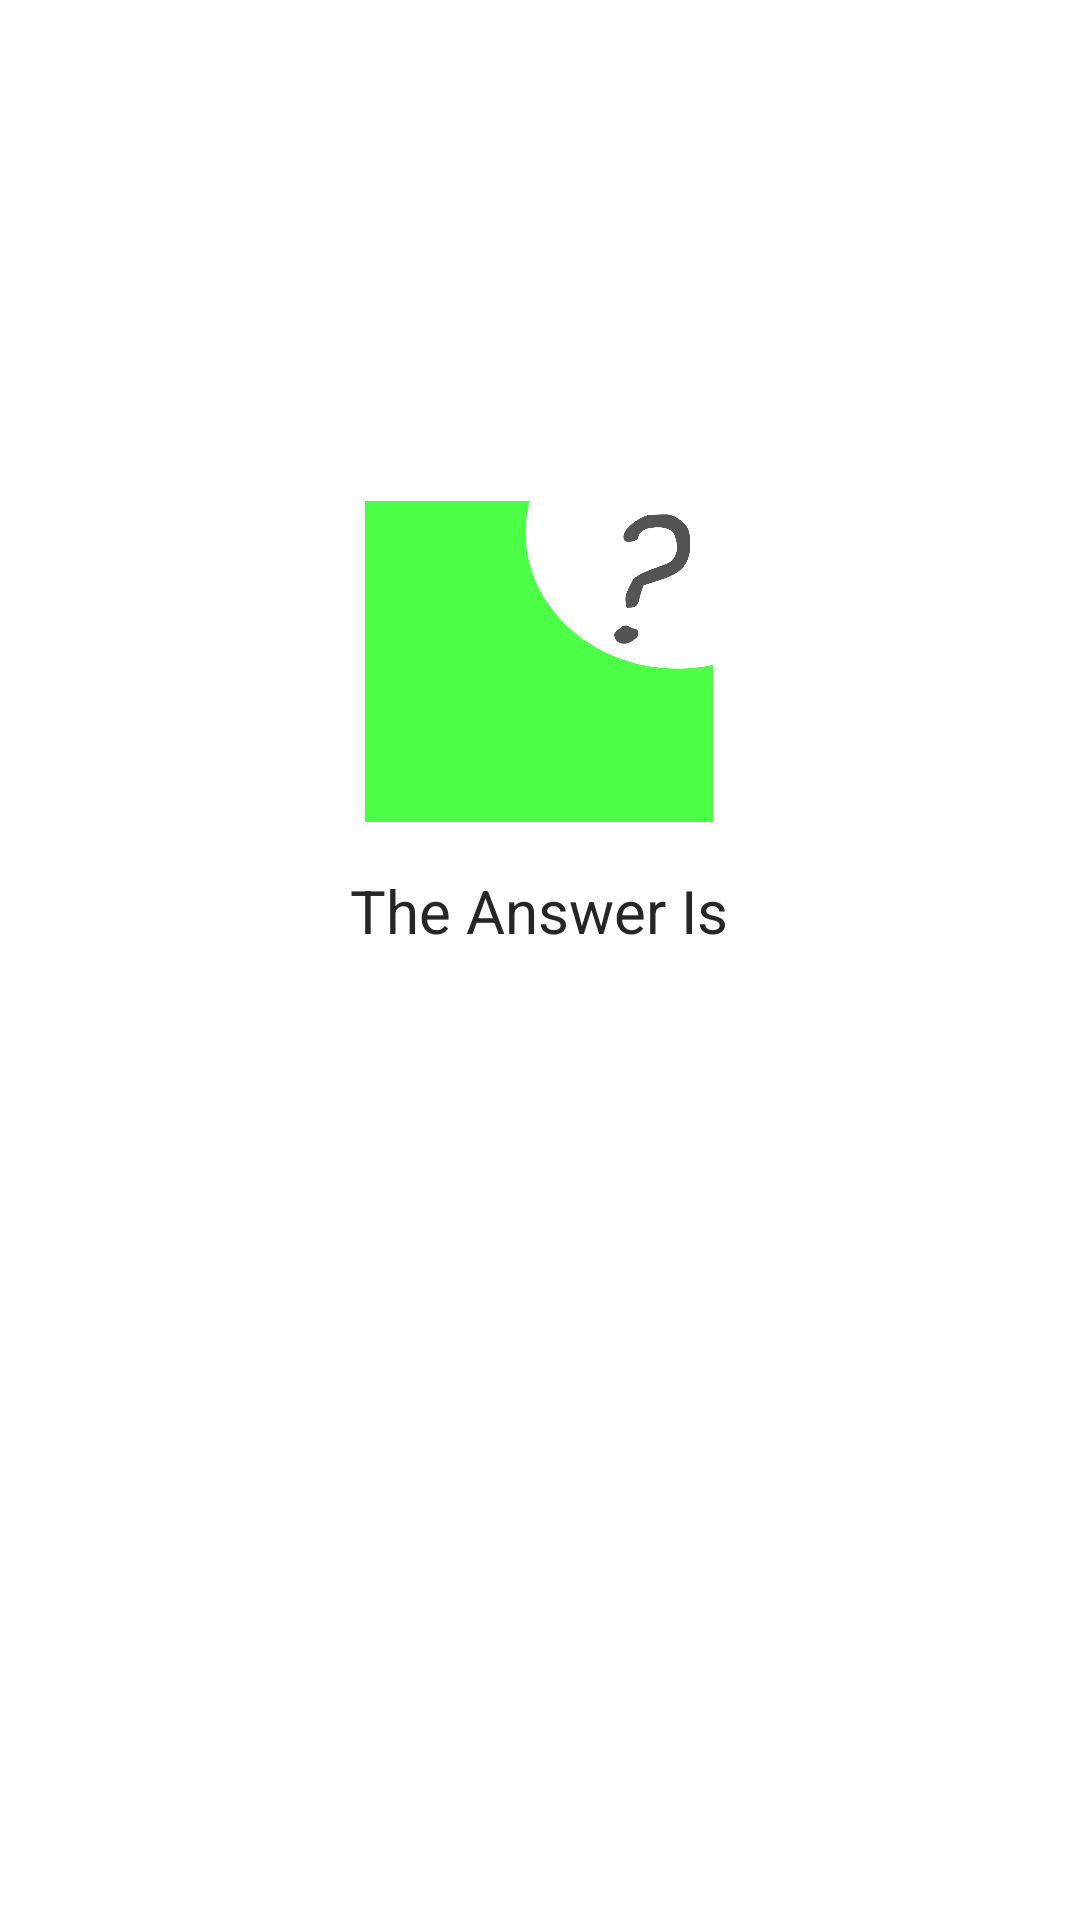

Named icons in this screenshot (1080 x 1920) and their bounding boxes, (x1, y1, x2, y2):
apppic: (365, 501, 713, 822)
